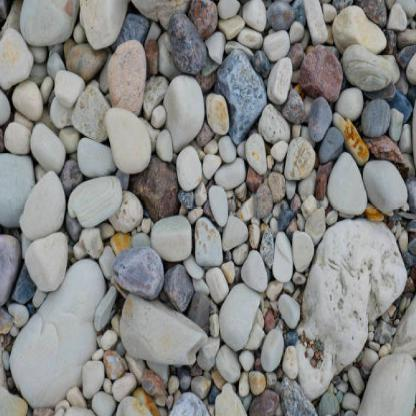Sedimentary_Limestone: (294, 209, 415, 399), (5, 256, 122, 405), (129, 294, 206, 375), (97, 102, 157, 186), (18, 171, 79, 248), (166, 71, 208, 160), (347, 38, 399, 99), (28, 118, 76, 183), (20, 0, 78, 53), (327, 152, 365, 228), (224, 277, 260, 351), (84, 0, 124, 51), (262, 57, 297, 105)
